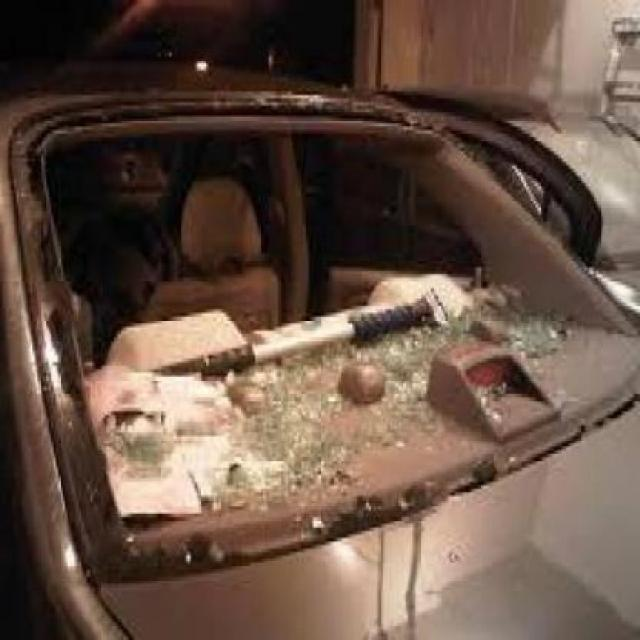damage: (12, 94, 638, 582)
